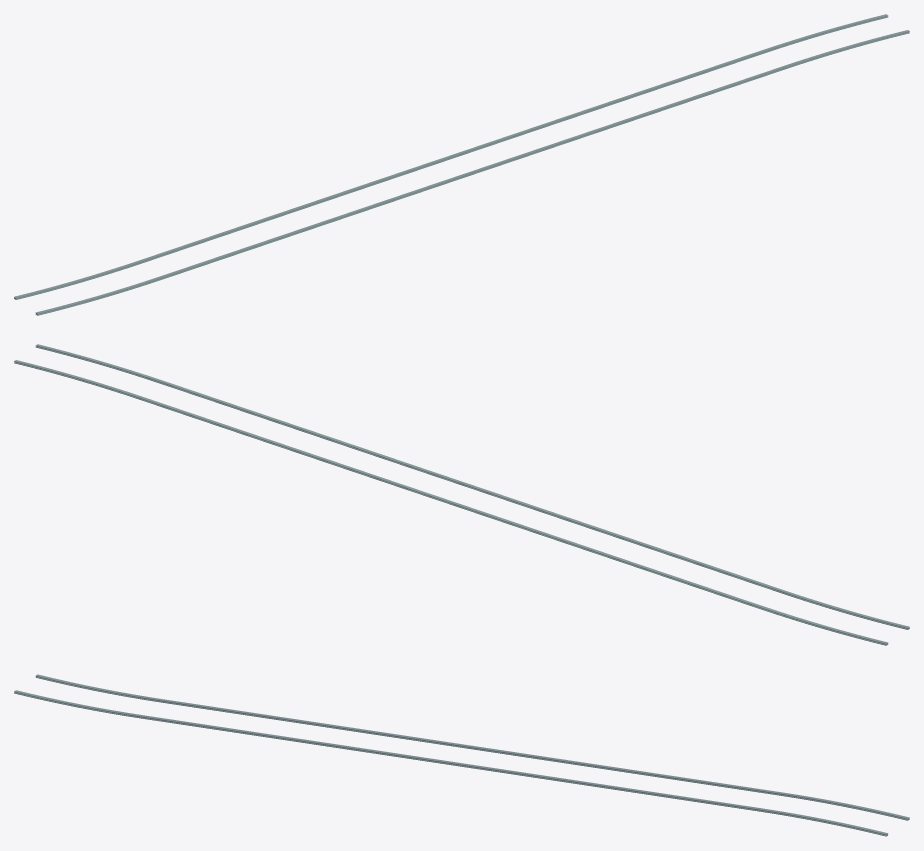
Rendered from RoadPlan_RampStructure_2L_Rise8p4_L110.glb.
3 renders of one model, top to bottom at view 1: azimuth 30°, elevation 25°; view 2: azimuth 150°, elevation 25°; view 3: azimuth 330°, elevation 25°, orthographic.
Visible parts, largest first — view 1: RoadPlan_RampStructure_2L_Rise8p4_L110_ConstantGrade_Girder_ (×2); view 2: RoadPlan_RampStructure_2L_Rise8p4_L110_ConstantGrade_Girder_ (×2); view 3: RoadPlan_RampStructure_2L_Rise8p4_L110_ConstantGrade_Girder_ (×2), RoadPlan_RampStructure_2L_Rise8p4_L110_UpperVerticalCurve_Gi (×2), RoadPlan_RampStructure_2L_Rise8p4_L110_LowerVerticalCurve_Gi (×2).
Boxes of the visible parts, x1,y1,x2,y2 form: RoadPlan_RampStructure_2L_Rise8p4_L110_ConstantGrade_Girder_ (×2): [141, 51, 782, 278]; RoadPlan_RampStructure_2L_Rise8p4_L110_ConstantGrade_Girder_ (×2): [141, 381, 782, 608]; RoadPlan_RampStructure_2L_Rise8p4_L110_ConstantGrade_Girder_ (×2): [141, 699, 782, 811]; RoadPlan_RampStructure_2L_Rise8p4_L110_UpperVerticalCurve_Gi (×2): [759, 792, 909, 836]; RoadPlan_RampStructure_2L_Rise8p4_L110_LowerVerticalCurve_Gi (×2): [14, 674, 163, 718].
Bounding box in the file's own units: 110 × 8.62 × 5.14.
